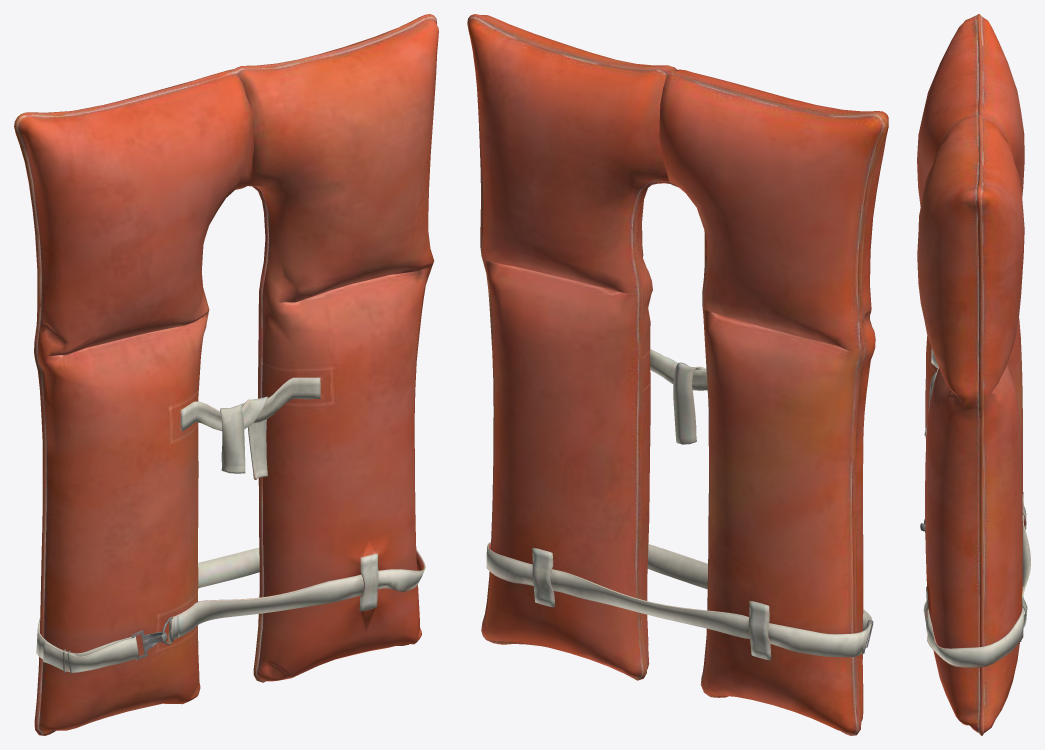
Rendered from life_jacket.glb.
3 renders of one model, left to right at view 1: azimuth 30°, elevation 25°; view 2: azimuth 150°, elevation 25°; view 3: azimuth 270°, elevation 25°, orthographic. The views are drawn at different scales.
Visible parts, largest first — view 1: life_jacket; view 2: life_jacket; view 3: life_jacket.
Part boxes in pixels (box(x1,y1,x2,y2)): life_jacket: box(14, 14, 438, 735); life_jacket: box(467, 14, 888, 735); life_jacket: box(917, 14, 1030, 735).
Size of the model in its own units: 0.6956 by 0.9923 by 0.1841.
1 material, 1 textured.
